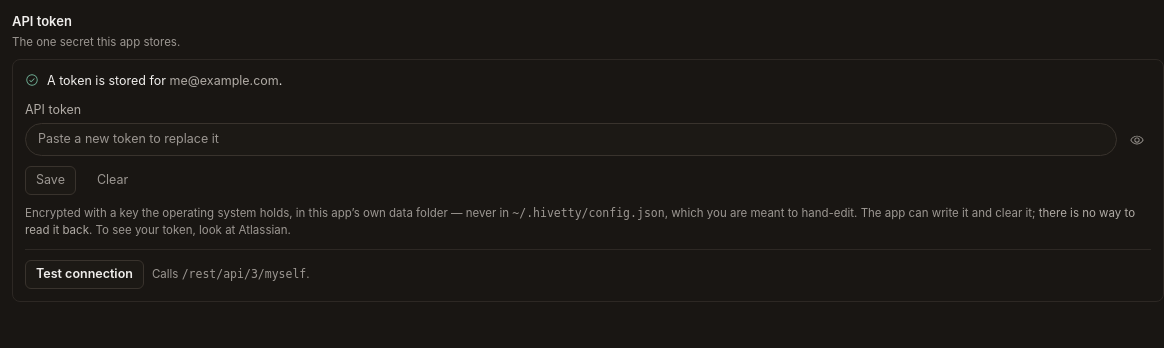
Test: testing the connection › shows the display name on success
Click the button "Test connection" at coordinates (84, 275), box [25,260,144,289]
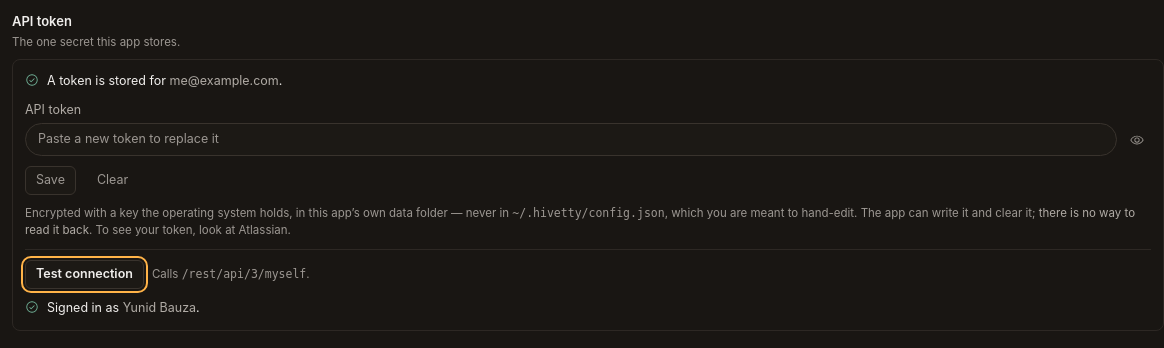
expect the text "Signed in as Yunid Bauza." is shown: met, box [47,299,200,318]
expect the text "Yunid Bauza" is shown: met, box [123,300,196,315]
